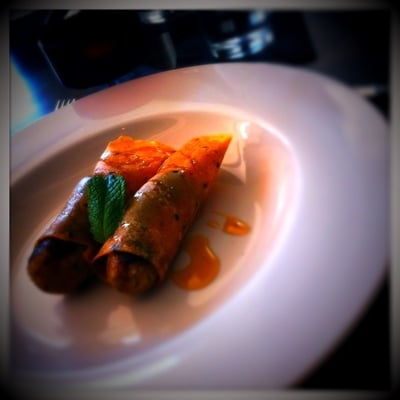burger: (26, 132, 234, 298)
curry: (0, 49, 391, 395)
pizza: (171, 236, 219, 290)
